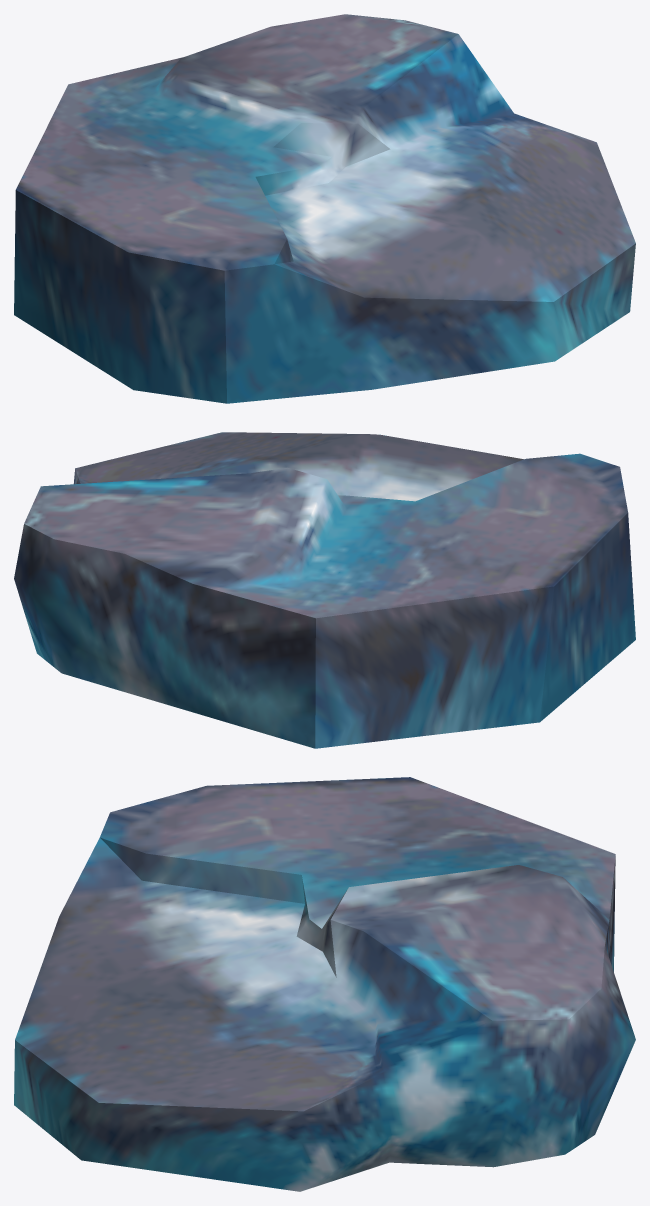
Rendered from 5013_Item_shitou_5.FBX.
3 views of the same model, one above another, from view 1: azimuth 30°, elevation 25°; view 2: azimuth 150°, elevation 25°; view 3: azimuth 270°, elevation 25° (orthographic). The views are drawn at different scales.
Visible parts, largest first — view 1: 5013_Item_shitou_5; view 2: 5013_Item_shitou_5; view 3: 5013_Item_shitou_5.
Part boxes in pixels (box(x1,y1,x2,y2)): 5013_Item_shitou_5: box(14, 14, 635, 403); 5013_Item_shitou_5: box(14, 432, 635, 748); 5013_Item_shitou_5: box(14, 777, 635, 1191).
Bounding box in the file's own units: 285 × 80.68 × 265.
